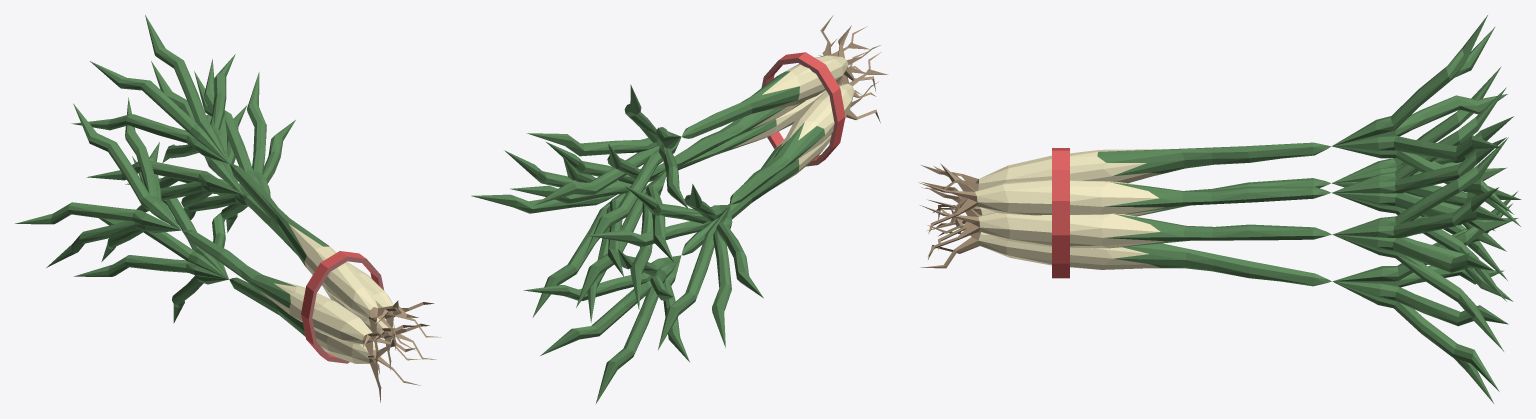
The model's file is Green Onions.fbx.
3 views of the same model, side by side, from view 1: azimuth 30°, elevation 25°; view 2: azimuth 150°, elevation 25°; view 3: azimuth 270°, elevation 25° (orthographic). The views are drawn at different scales.
Visible parts, largest first — view 1: Green Onions; view 2: Green Onions; view 3: Green Onions.
Part boxes in pixels (left/top/right/bottom): Green Onions: left=15, top=15, right=441, bottom=402; Green Onions: left=471, top=15, right=888, bottom=404; Green Onions: left=918, top=15, right=1521, bottom=403.
Size of the model in its own units: 18.81 by 20.17 by 29.63.
